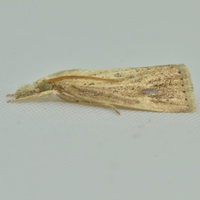insect: (8, 64, 195, 113)
